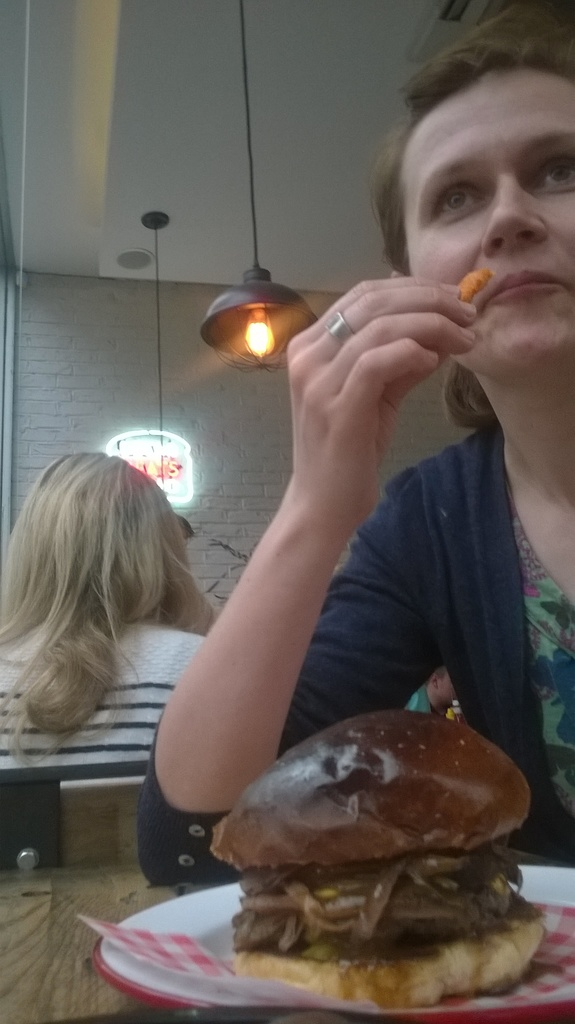Hamburger: (214, 705, 549, 1012)
